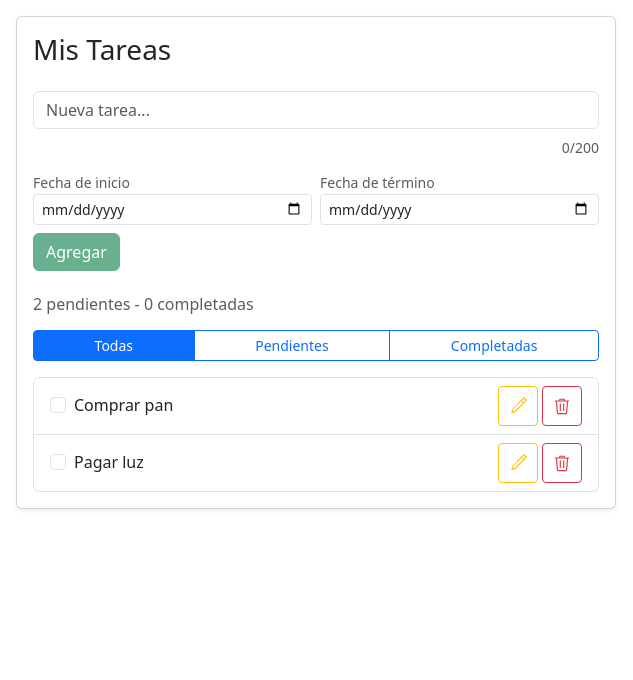
it: Escape cancels without saving and returns focus to the edit button
Click the button named "Modificar: Pagar luz": click(518, 463) [498,443,538,483]
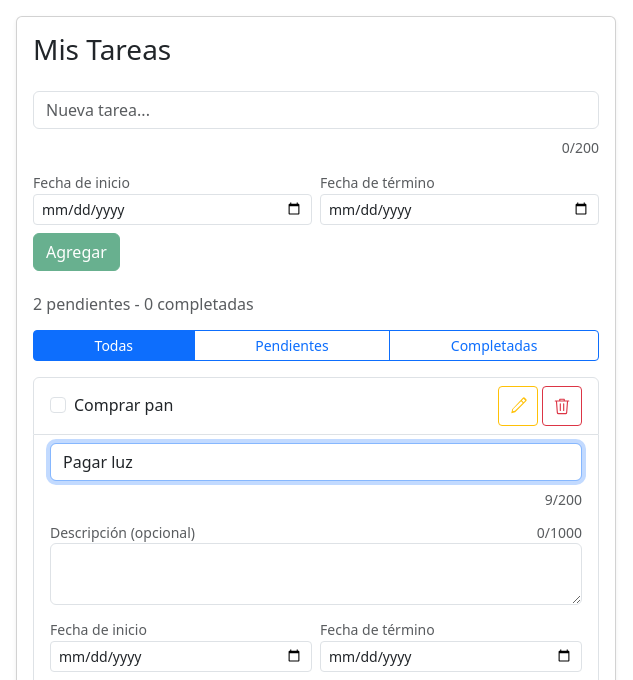
In the field named "Título de la tarea": (316, 462) [50,443,582,481], type " (cambio descartado)"
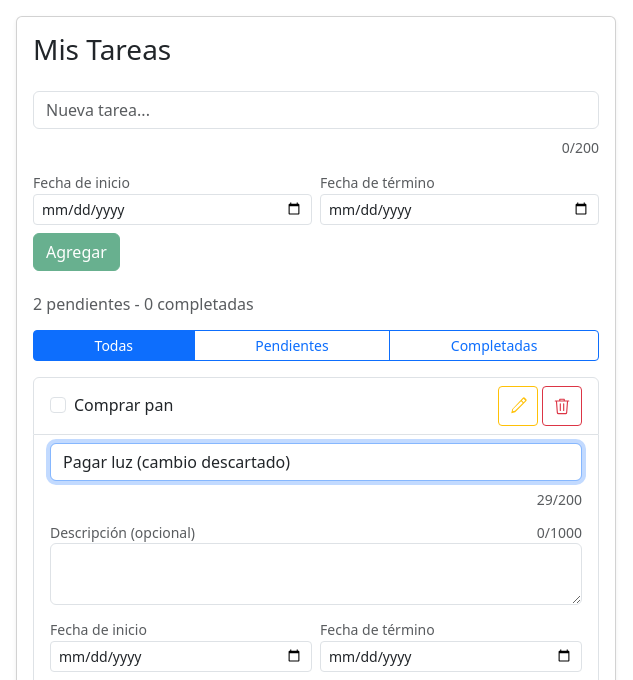
Press Escape
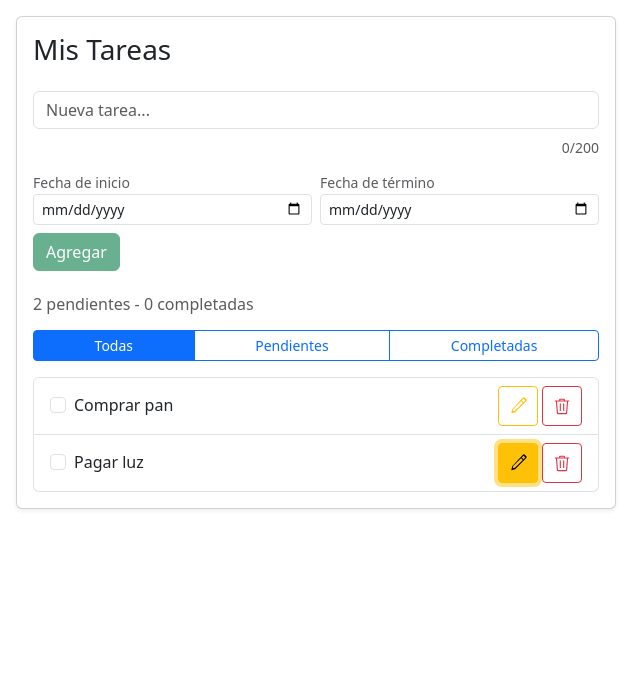
Expected: the text "Pagar luz" is shown, [74,451,144,473]
